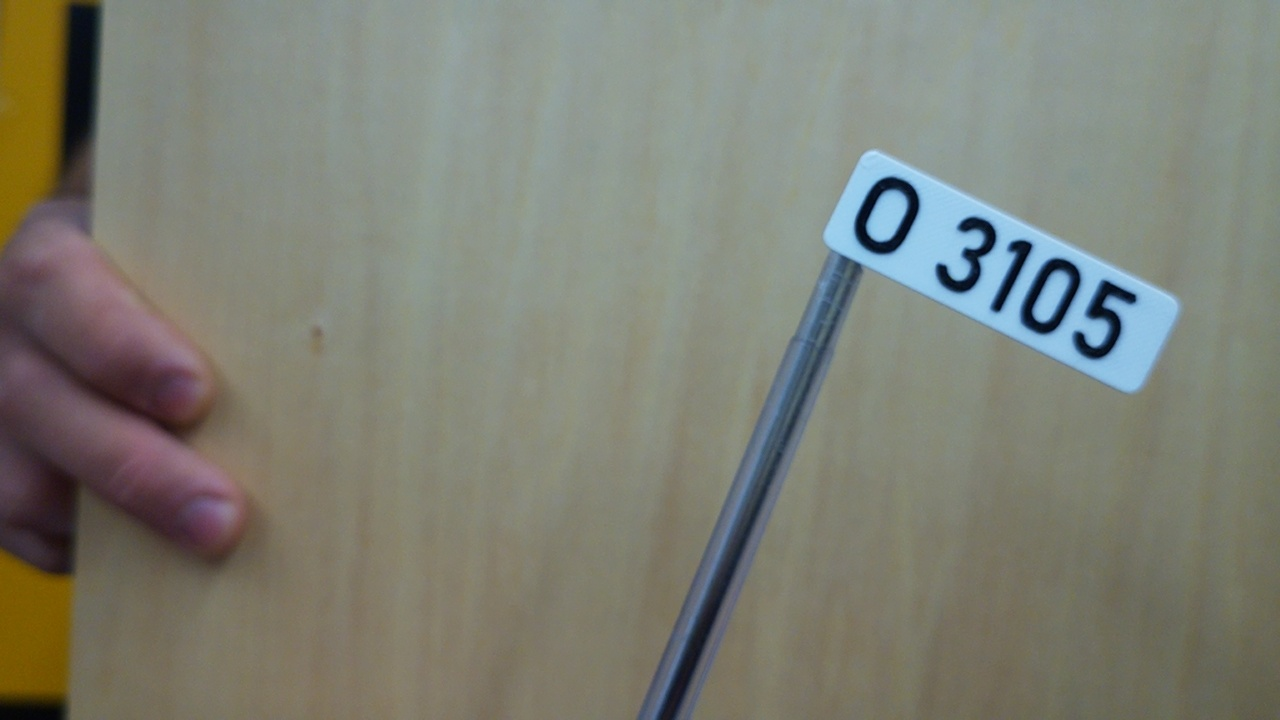license_plate: (819, 145, 1182, 398)
